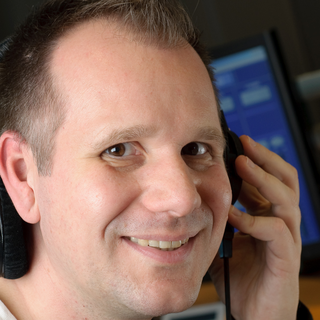eye: (99, 136, 149, 163), (176, 139, 219, 161)
